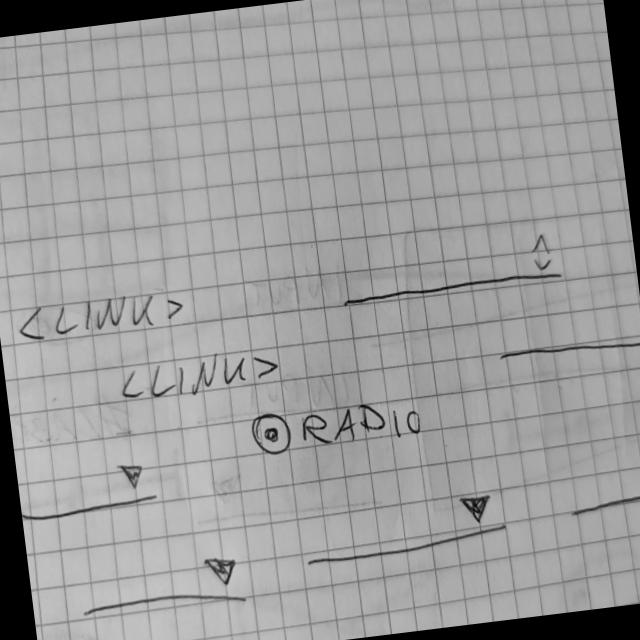link: (117, 344, 284, 408), (15, 282, 186, 344)
number-input: (335, 226, 565, 310), (489, 287, 640, 369), (561, 446, 640, 520)
radio: (246, 391, 424, 461)
select: (298, 489, 512, 571), (73, 550, 250, 626), (17, 454, 162, 524)
